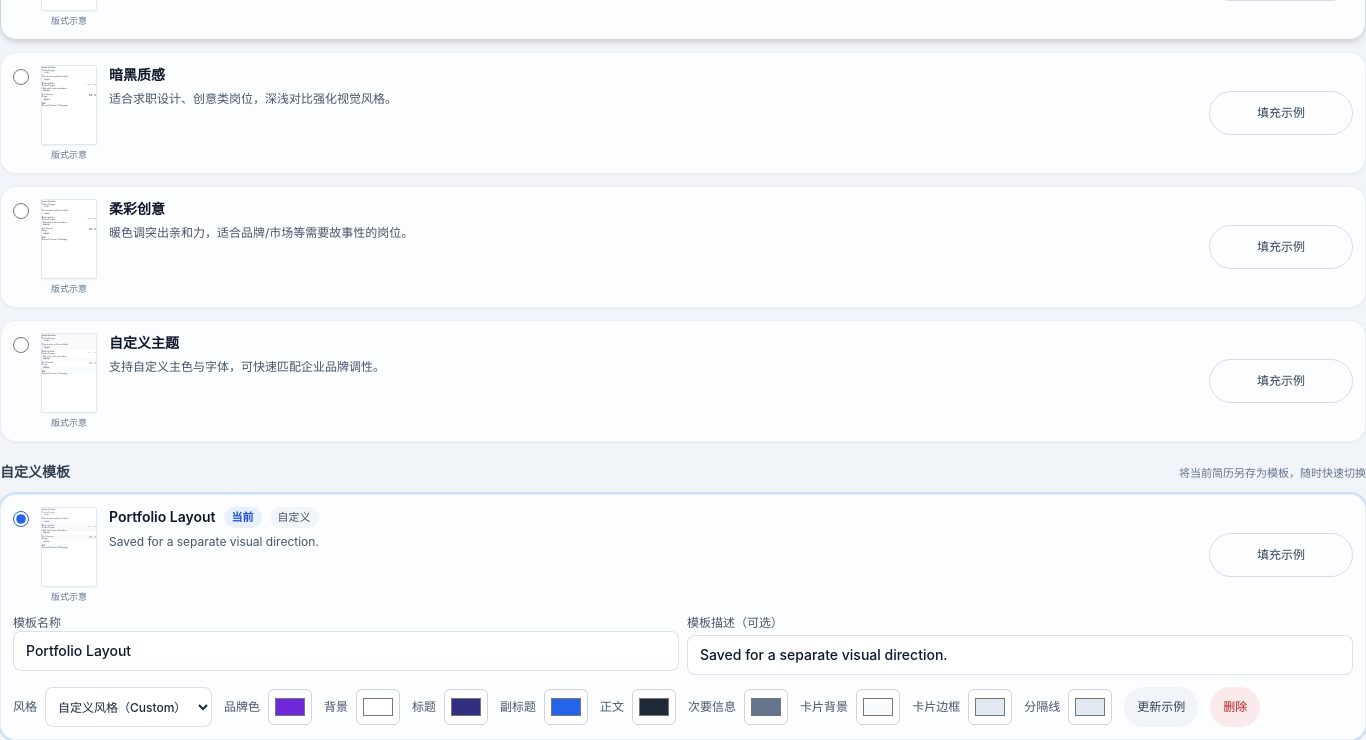
Test case: TemplateSelector › moves focus to the selected fallback after deleting the selected custom template
(page scrolled)
Click the button "删除". click: {"x": 1235, "y": 707}
box: [1210, 687, 1260, 727]
(page scrolled)
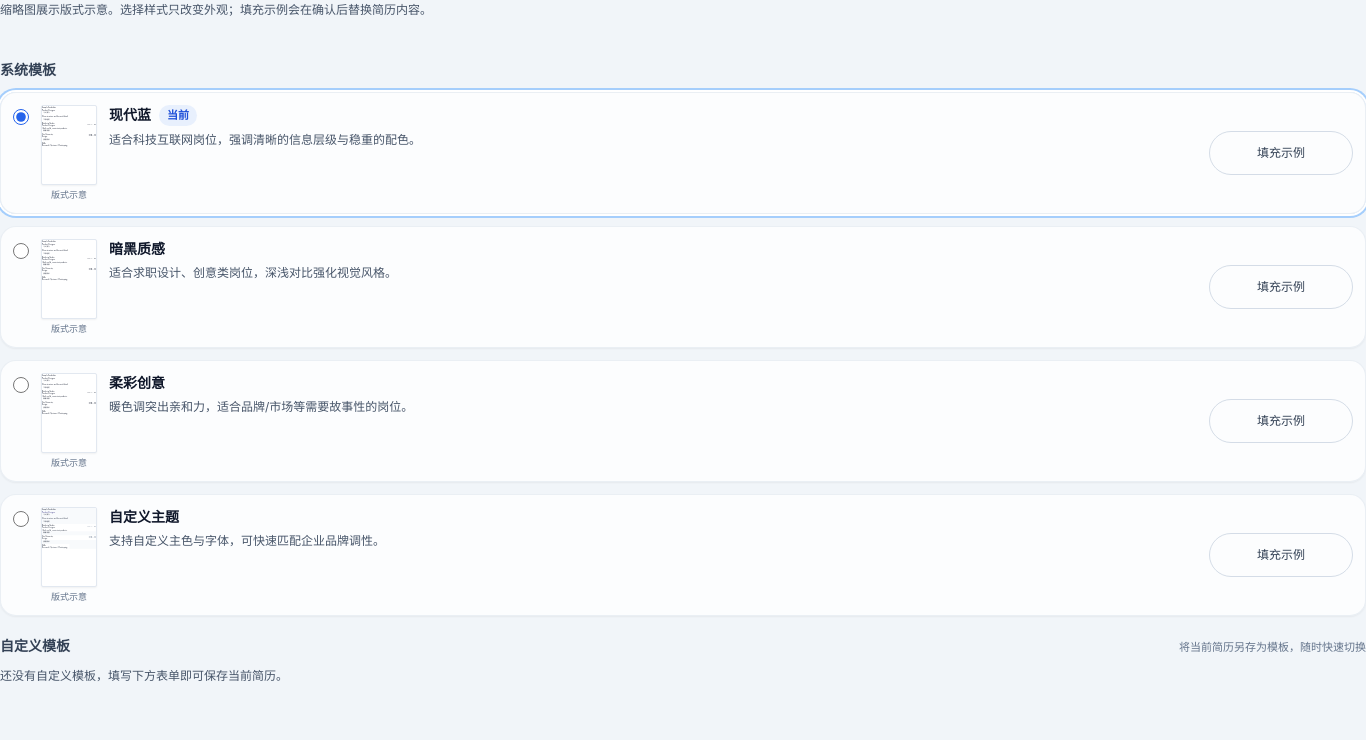
Now the label "Portfolio Layout" is gone
Now the radio button labelled "现代蓝" is checked, box [13, 109, 29, 125]
